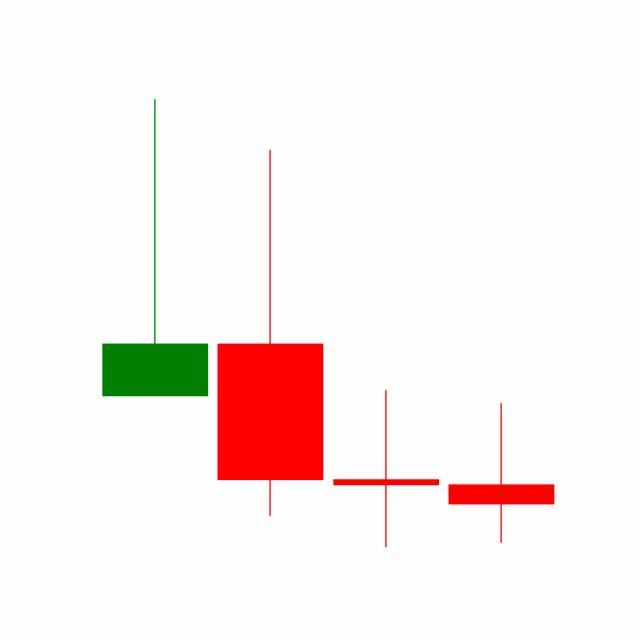Spinning Top: (444, 402, 560, 546)
